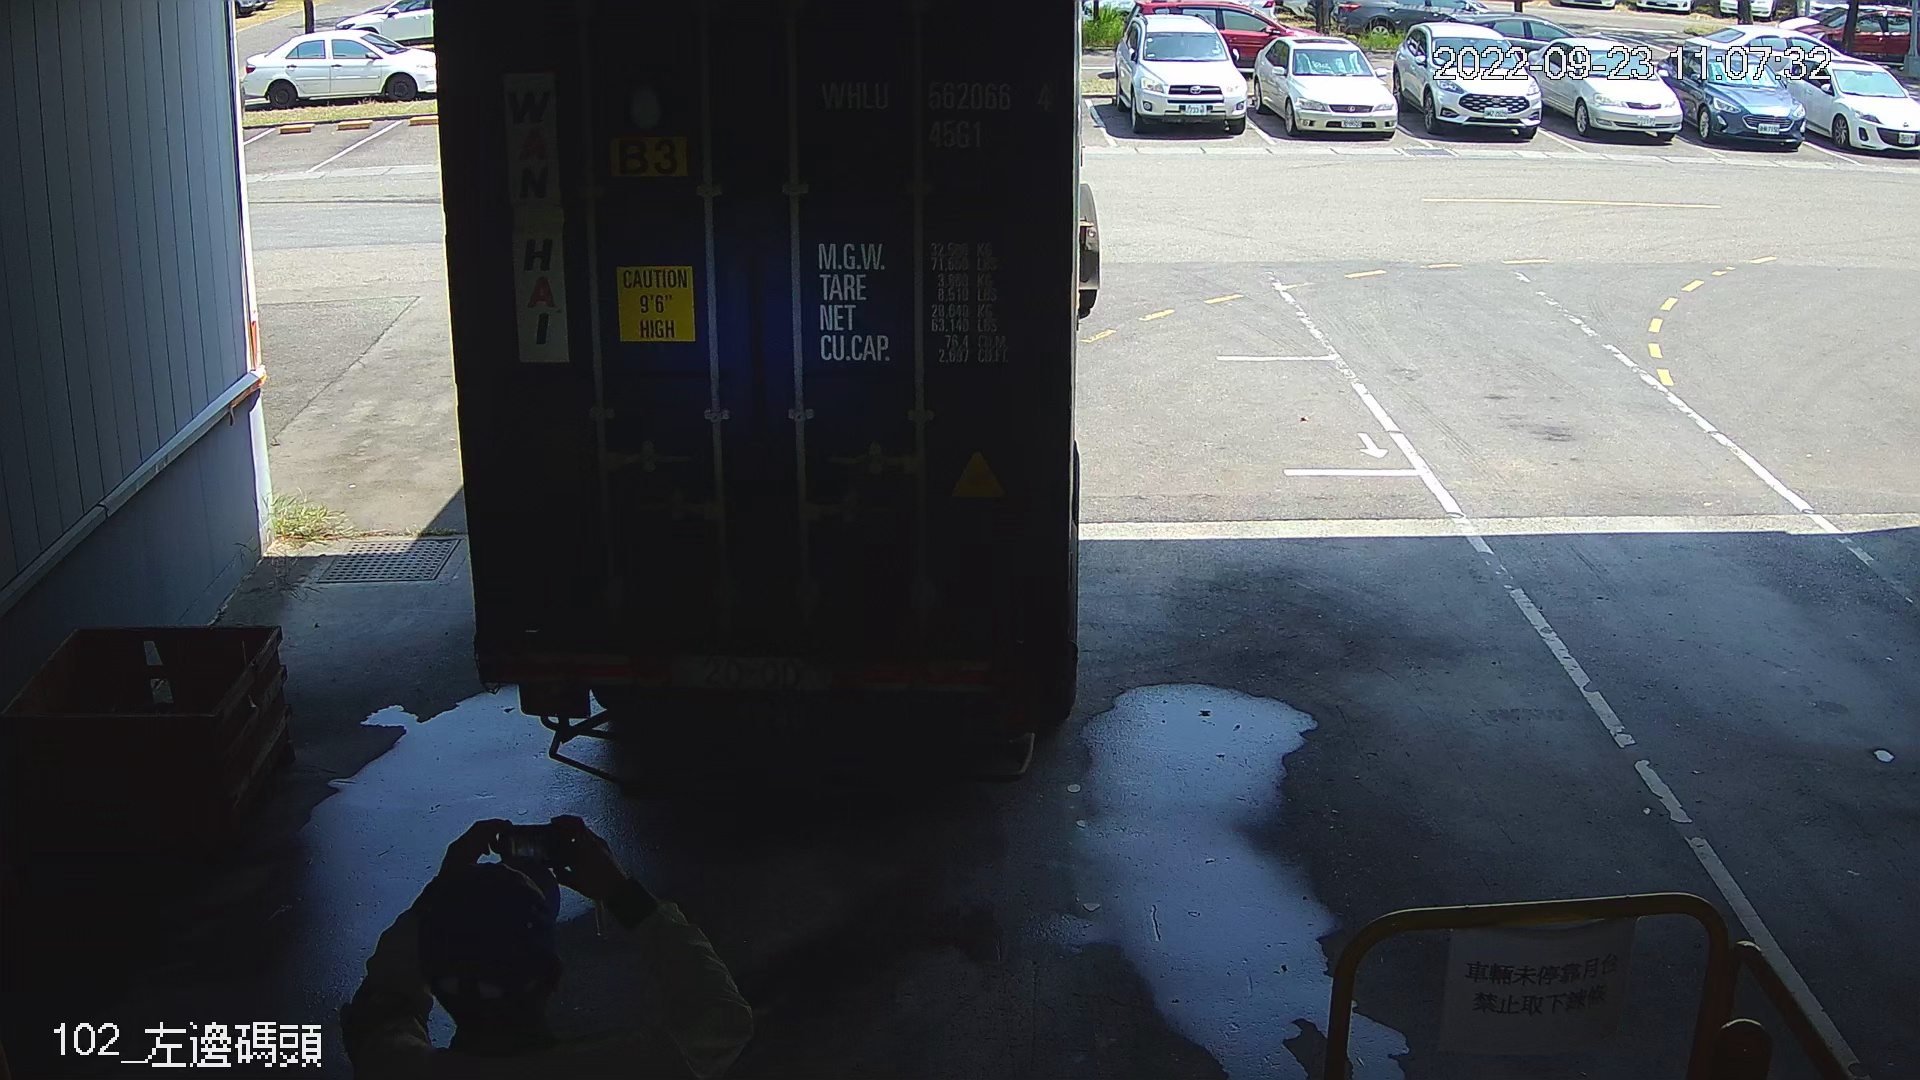container: (807, 70, 1064, 160)
